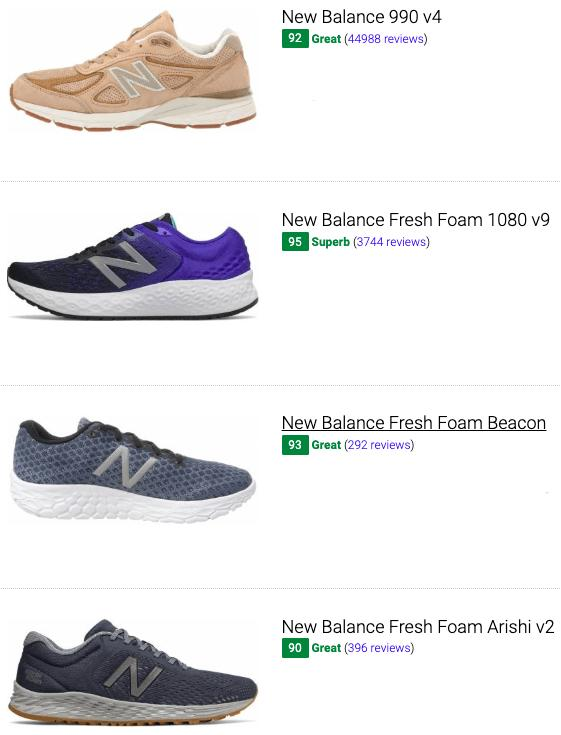NB logo: (82, 236, 169, 294), (82, 436, 165, 494), (100, 52, 177, 108), (96, 646, 172, 702)
